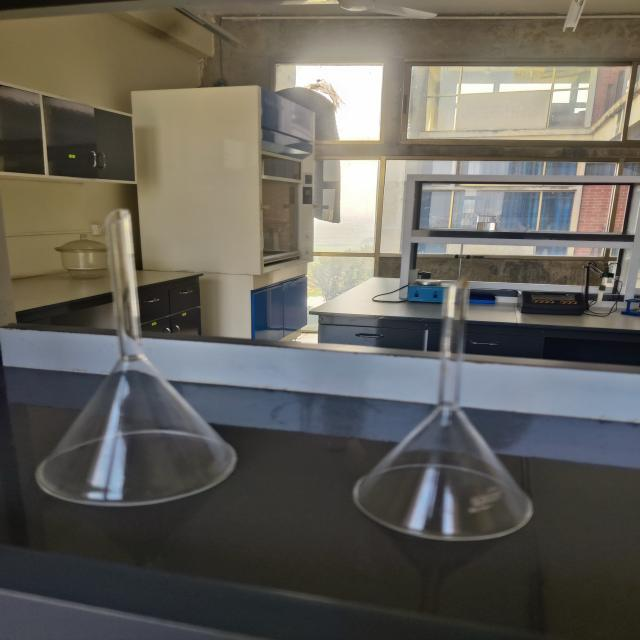Funnel: (2, 184, 262, 534), (325, 242, 565, 573)
